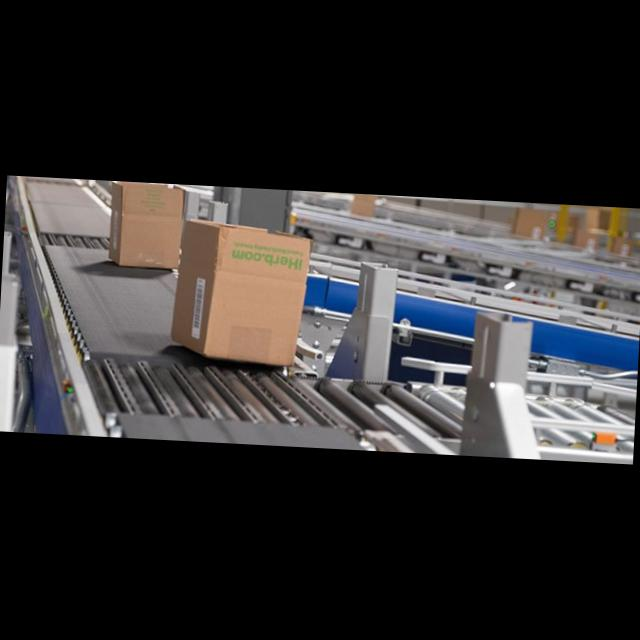box: (168, 218, 310, 365), (108, 180, 183, 268)
